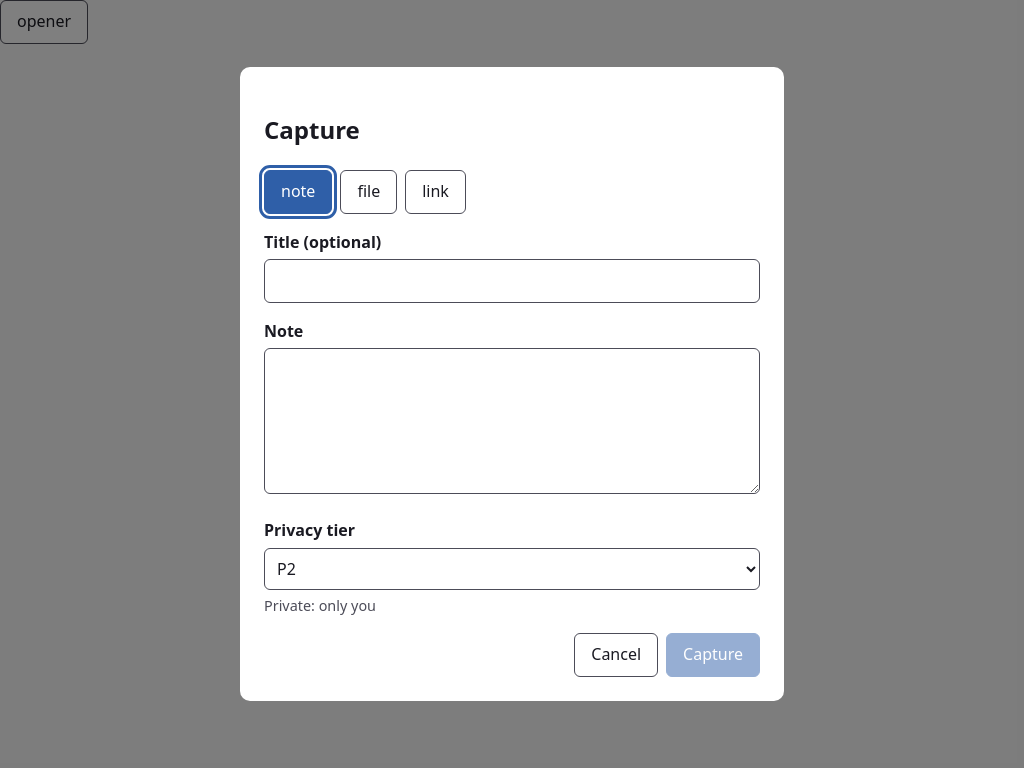
Test: CaptureQuickAdd (DESIGN_SYSTEM 4.2, ACCESSIBILITY 4.3) › asks for a session when no token is present
Type "x" into the text box labelled "Note" at (512, 421), box [264,348,760,494]
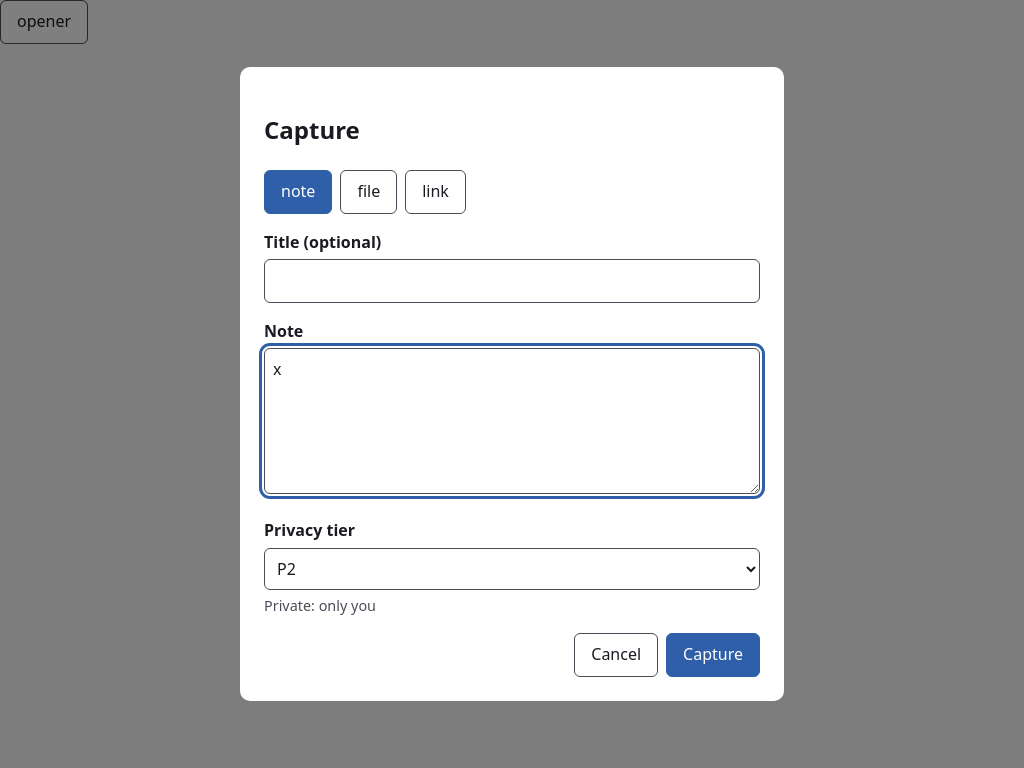
Click the button "Capture" at (713, 655), box [666,633,760,677]
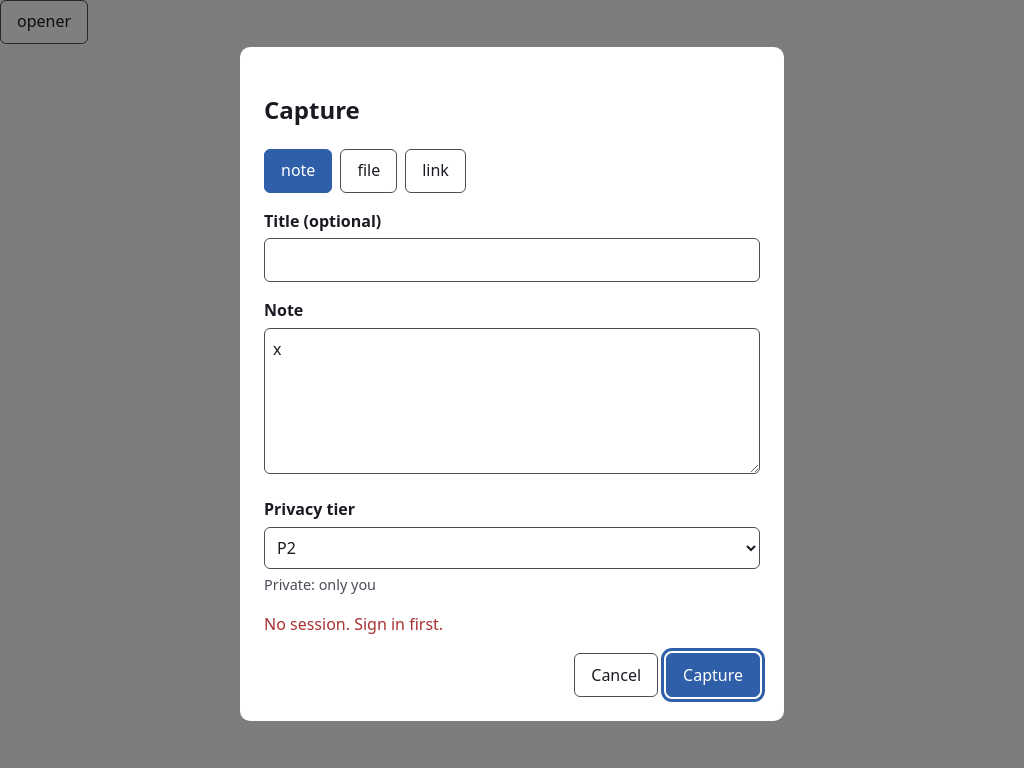
Check: the message shows "No session", box [264,613,443,635]
